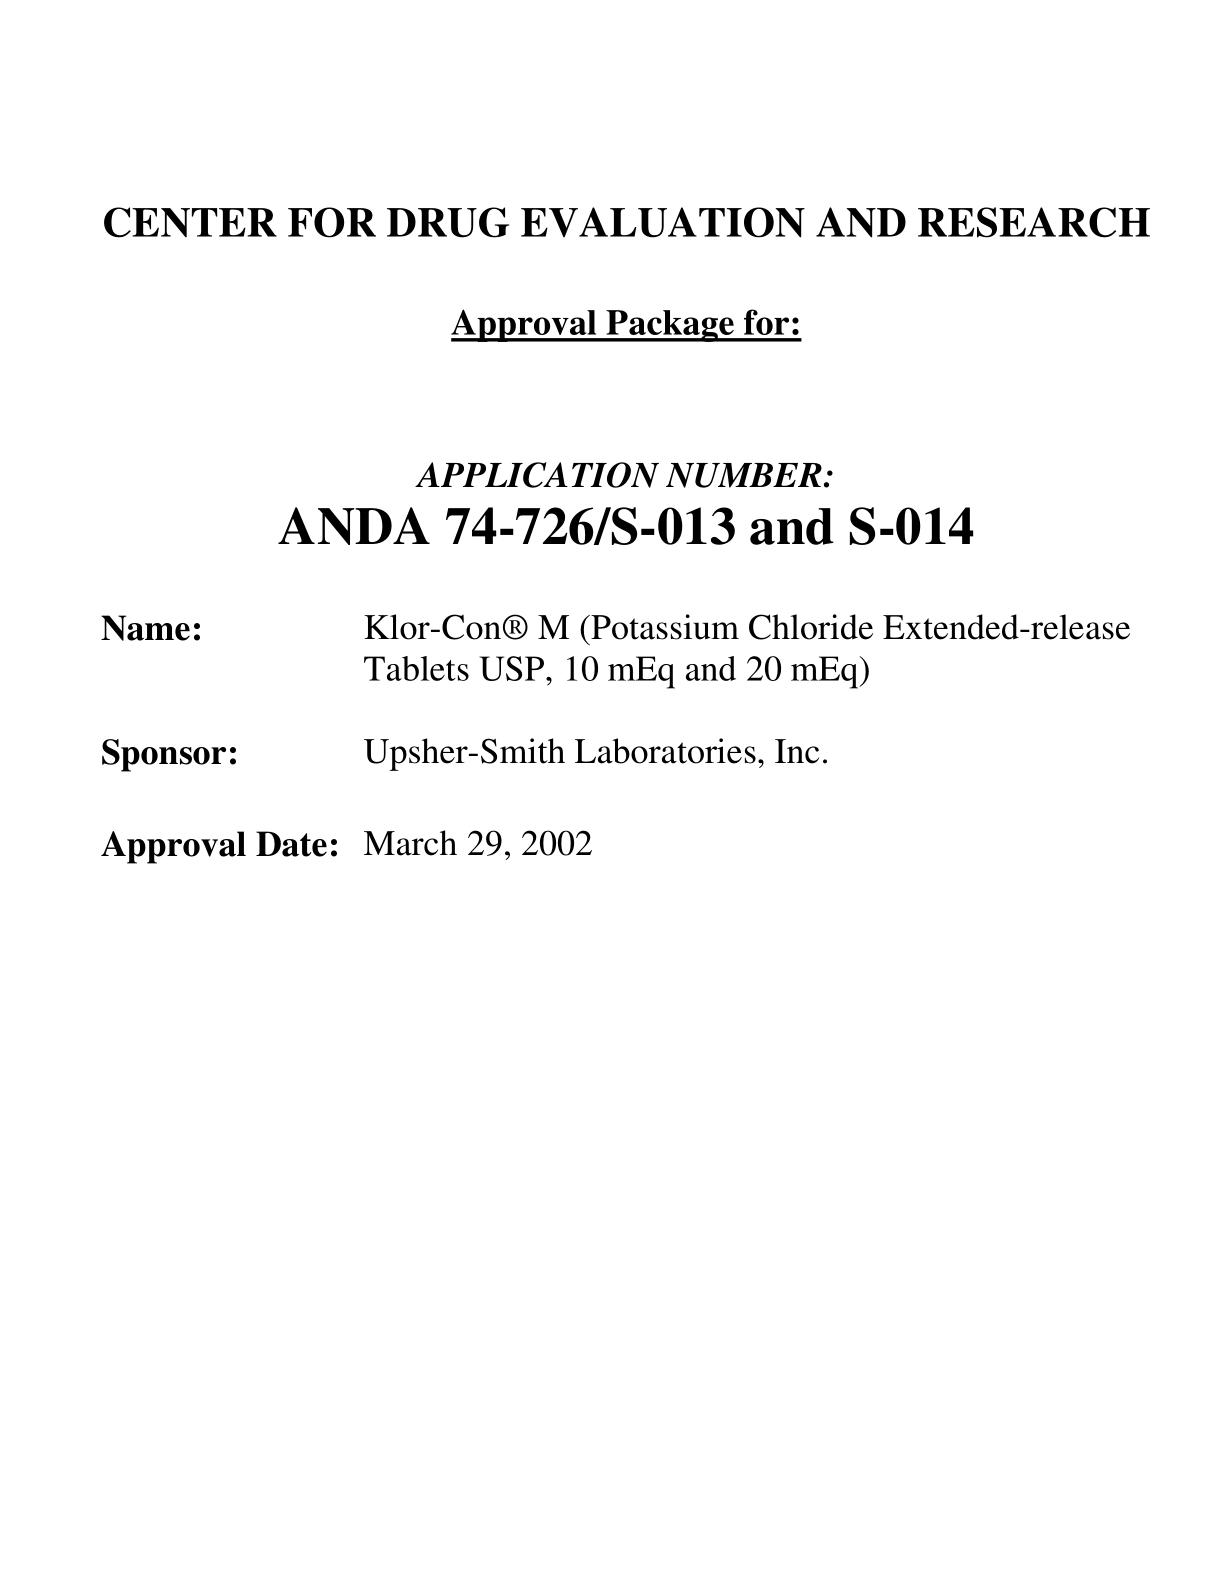nolines: (98, 606, 1137, 868)
